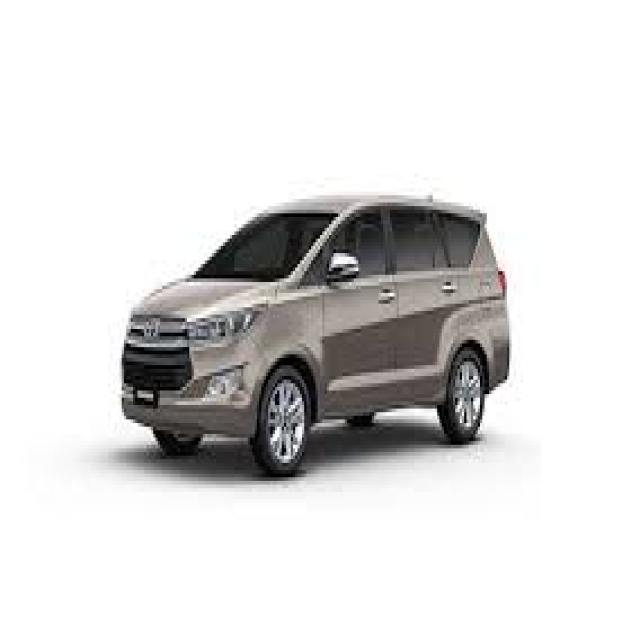cars: (104, 177, 520, 490)
